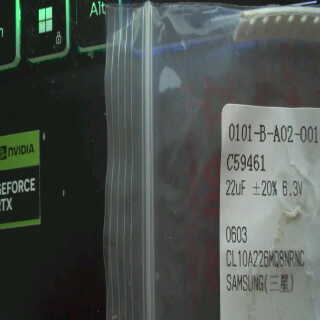22uF: (223, 174, 249, 199)
